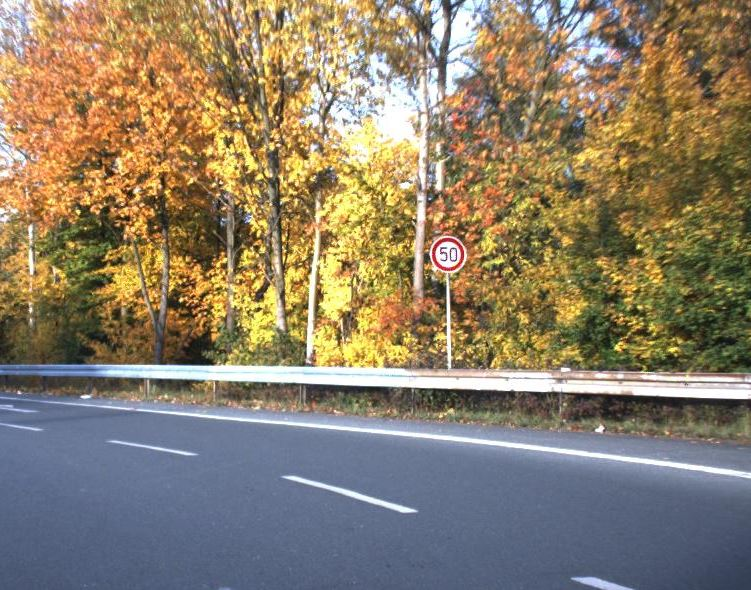50 Km Hiz Siniri: (429, 234, 470, 273)
